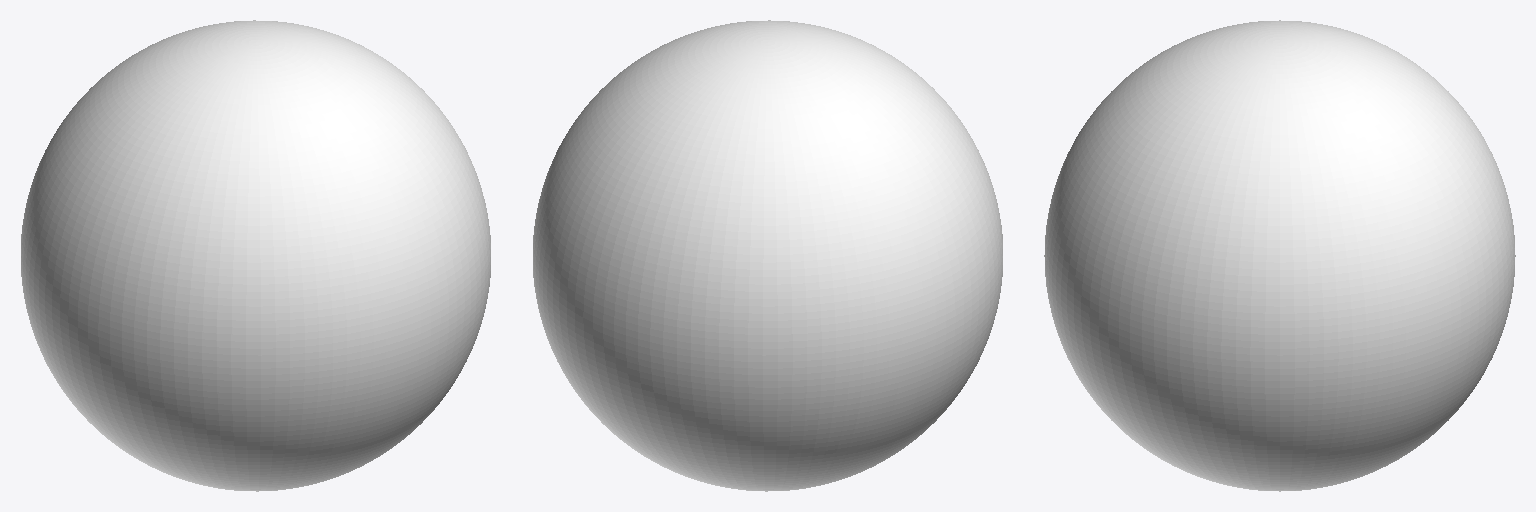
The model's file is neptune.obj.
3 renders of one model, left to right at view 1: azimuth 30°, elevation 25°; view 2: azimuth 150°, elevation 25°; view 3: azimuth 270°, elevation 25°, orthographic.
Visible parts, largest first — view 1: Object.1; view 2: Object.1; view 3: Object.1.
Boxes of the visible parts, <box> form: Object.1: <box>21,20,490,491</box>; Object.1: <box>533,20,1002,491</box>; Object.1: <box>1044,20,1515,491</box>.
Bounding box in the file's own units: 200 × 200 × 200.